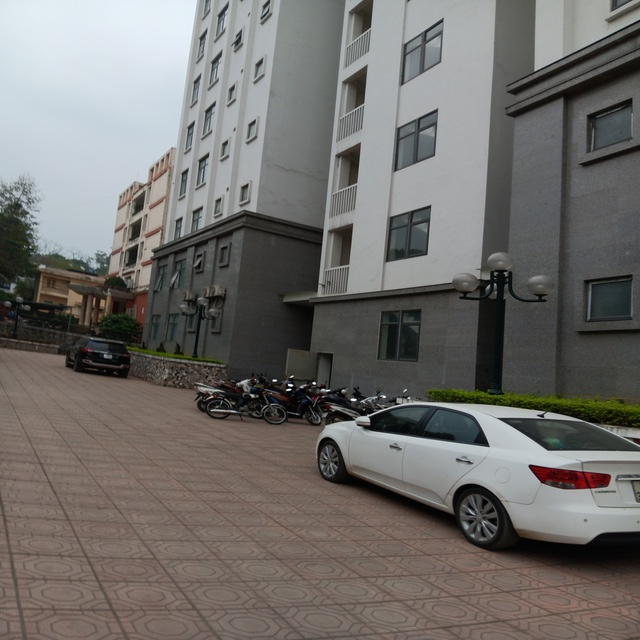cotden: (454, 246, 553, 397)
